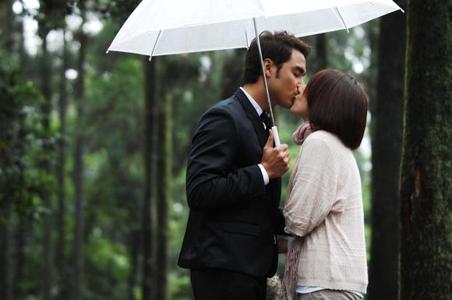person: (177, 30, 310, 300)
